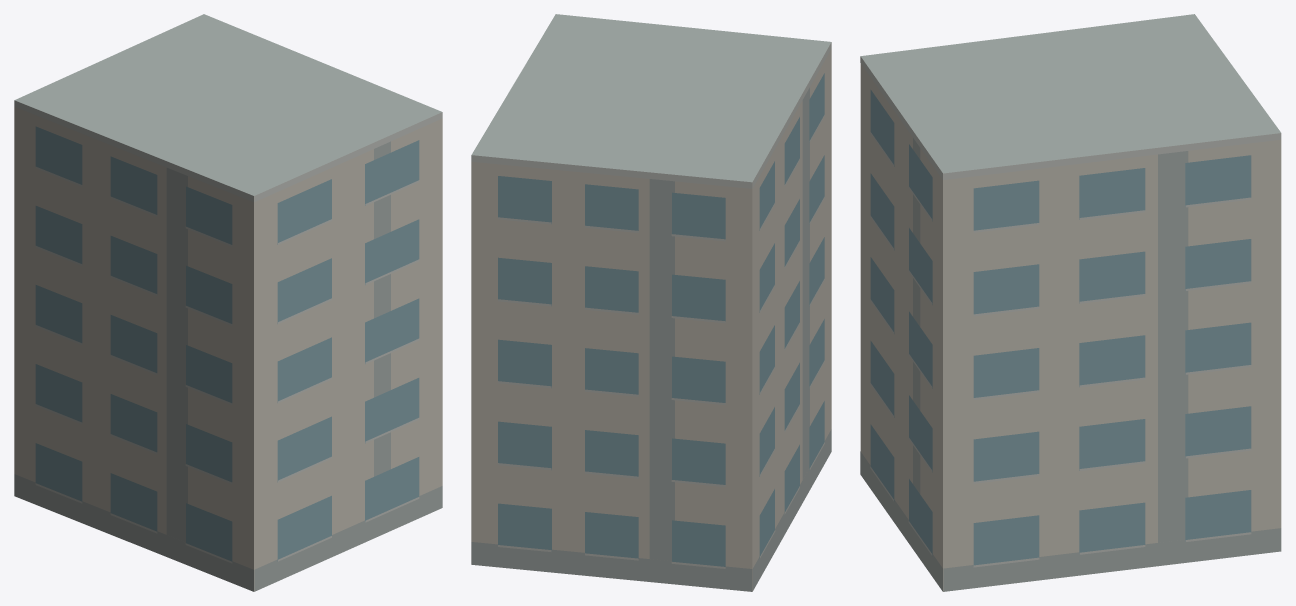
The model's file is residential-a37358dc-9933-4113-a031-b27c4410332b.glb.
The picture shows the model from 3 angles, left to right: view 1: azimuth 30°, elevation 25°; view 2: azimuth 150°, elevation 25°; view 3: azimuth 270°, elevation 25°; orthographic projection. The views are drawn at different scales.
Visible parts, largest first — view 1: residential-a37358dc-9933-4113-a031-b27c4410332b.tmp; view 2: residential-a37358dc-9933-4113-a031-b27c4410332b.tmp; view 3: residential-a37358dc-9933-4113-a031-b27c4410332b.tmp.
Part boxes in pixels (x1,y1,x2,y2): residential-a37358dc-9933-4113-a031-b27c4410332b.tmp: [14, 14, 442, 591]; residential-a37358dc-9933-4113-a031-b27c4410332b.tmp: [471, 14, 831, 591]; residential-a37358dc-9933-4113-a031-b27c4410332b.tmp: [860, 14, 1281, 591].
Size of the model in its own units: 12.48 by 15.25 by 13.92.
